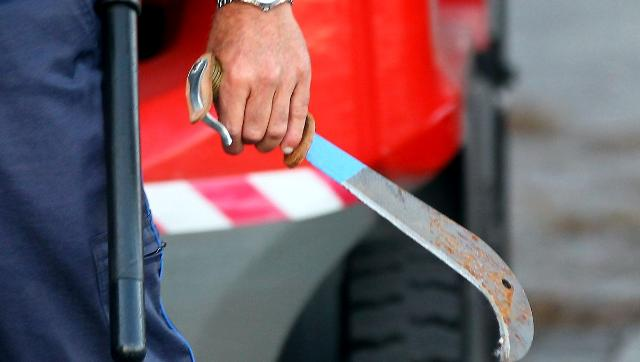long knife: (192, 53, 552, 362)
